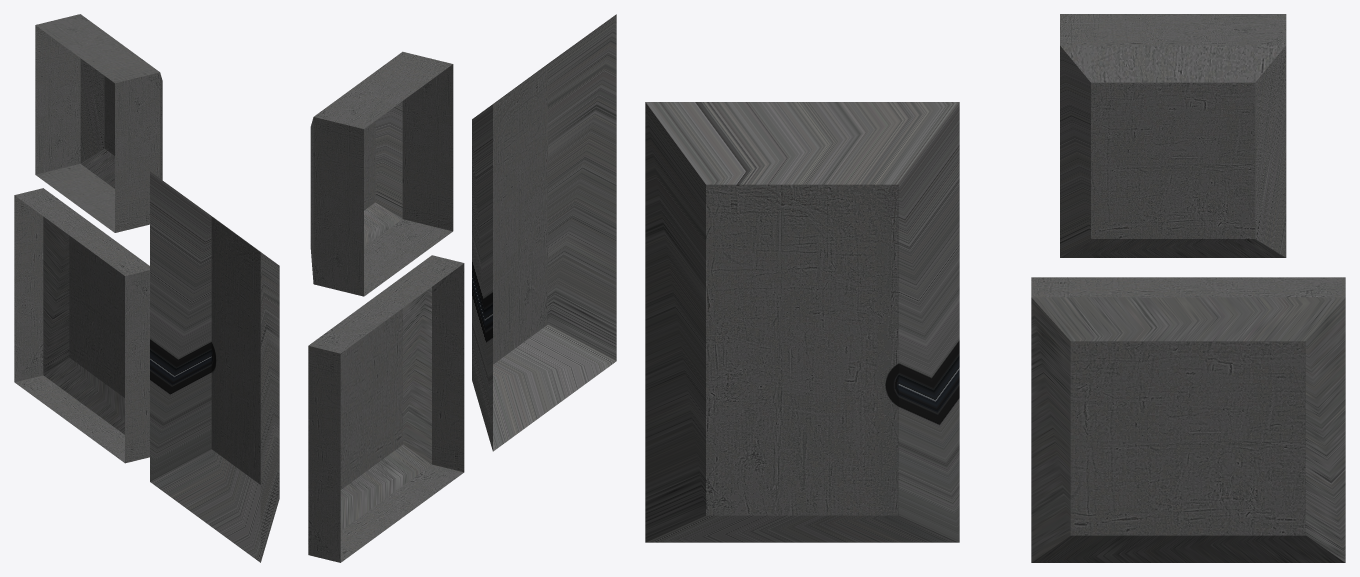
The model's file is p6_cic_mech_panel_b_white_lod3.glb.
3 views of the same model, side by side, from view 1: azimuth 30°, elevation 25°; view 2: azimuth 150°, elevation 25°; view 3: azimuth 270°, elevation 25° (orthographic). The views are drawn at different scales.
Parts seen in each view (by area): view 1: surf0; view 2: surf0; view 3: surf0.
Part boxes in pixels (box(x1,y1,x2,y2)): surf0: box(14, 14, 279, 562); surf0: box(308, 14, 616, 562); surf0: box(645, 14, 1345, 562).
Bounding box in the file's own units: 10.57 × 64.02 × 76.81.
